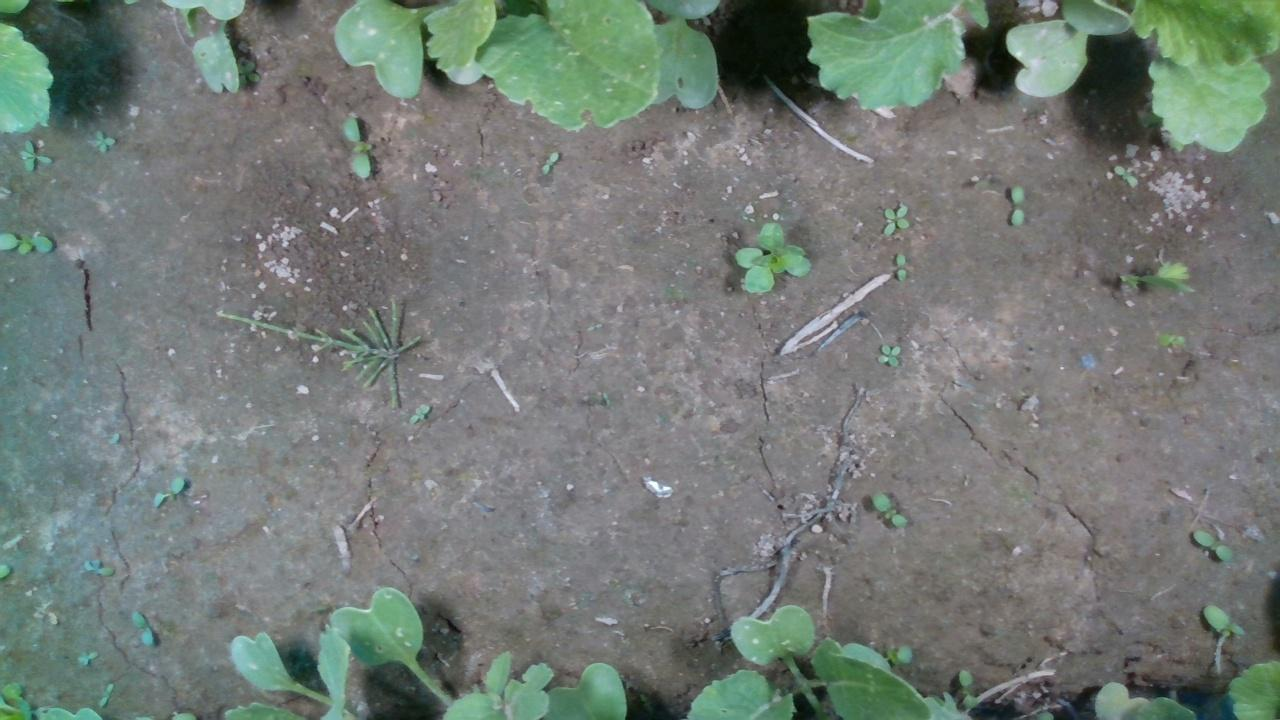weed: (341, 113, 372, 179), (870, 490, 907, 528), (1190, 529, 1233, 561), (17, 138, 53, 171), (151, 476, 184, 509), (881, 203, 909, 236), (129, 609, 153, 647), (956, 668, 976, 709), (1008, 183, 1024, 226), (876, 341, 900, 368), (1111, 163, 1137, 187), (88, 129, 115, 152), (81, 558, 113, 575), (1156, 332, 1186, 349), (407, 402, 430, 424), (539, 149, 559, 174), (97, 682, 113, 708), (894, 250, 906, 281), (76, 648, 96, 665)
